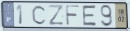1: (15, 4, 23, 27)
9: (100, 4, 114, 28)
C: (31, 4, 48, 26)
E: (82, 5, 98, 27)
F: (64, 4, 81, 27)
Z: (48, 4, 65, 27)
